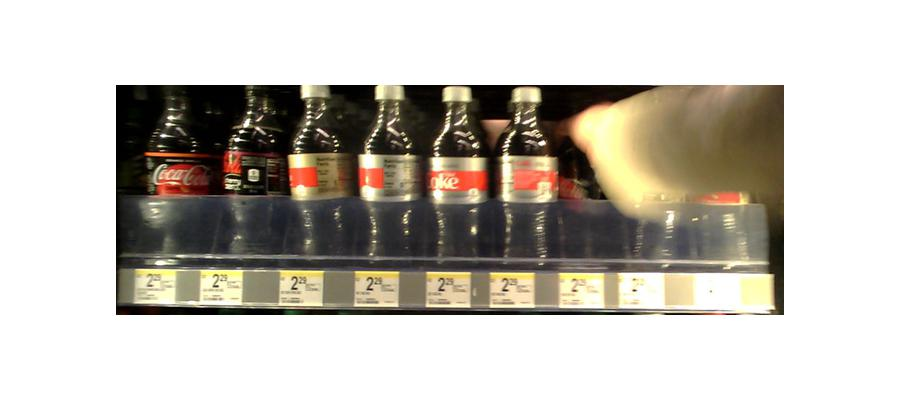bottle: (142, 89, 213, 258), (289, 84, 357, 258), (219, 83, 285, 259), (360, 79, 422, 263), (496, 84, 556, 264), (430, 81, 489, 264), (562, 115, 624, 259)
